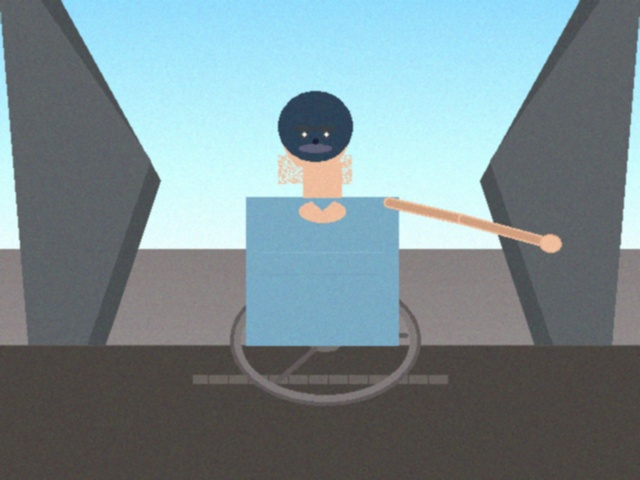hands_off_wheel: (529, 223, 571, 263)
